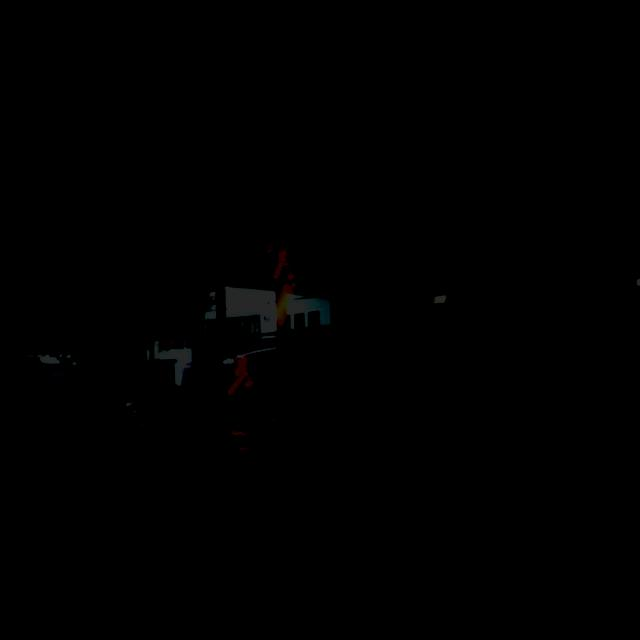Car: (158, 345, 398, 511)
